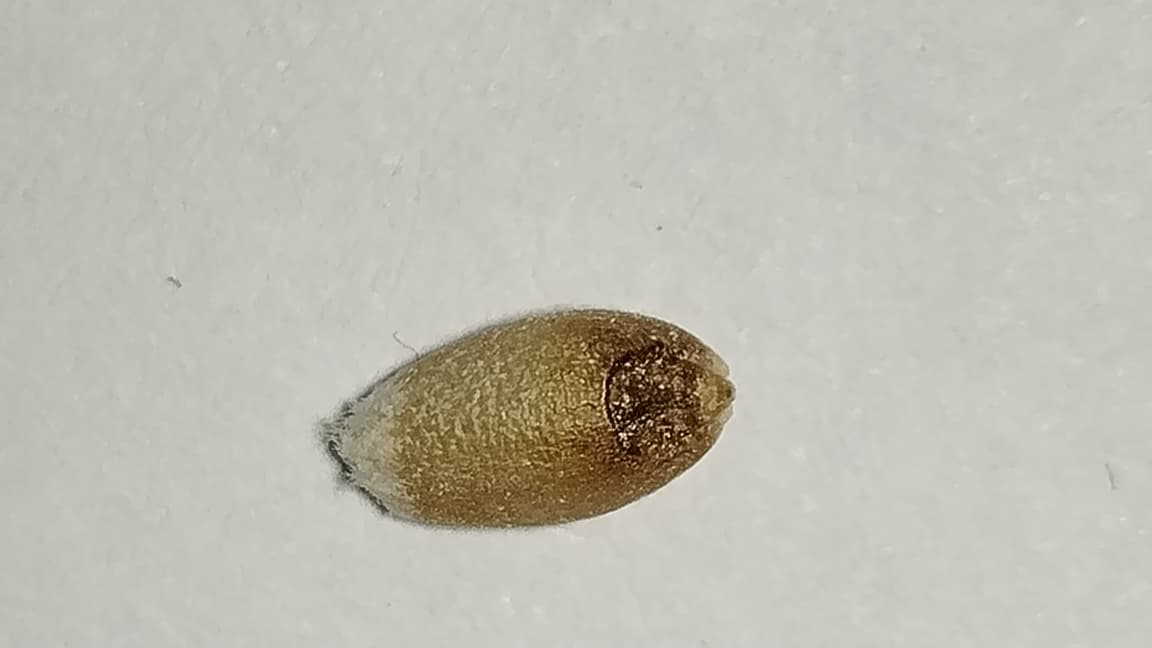damage: (322, 305, 736, 527)
insectdamage: (579, 295, 740, 481)
